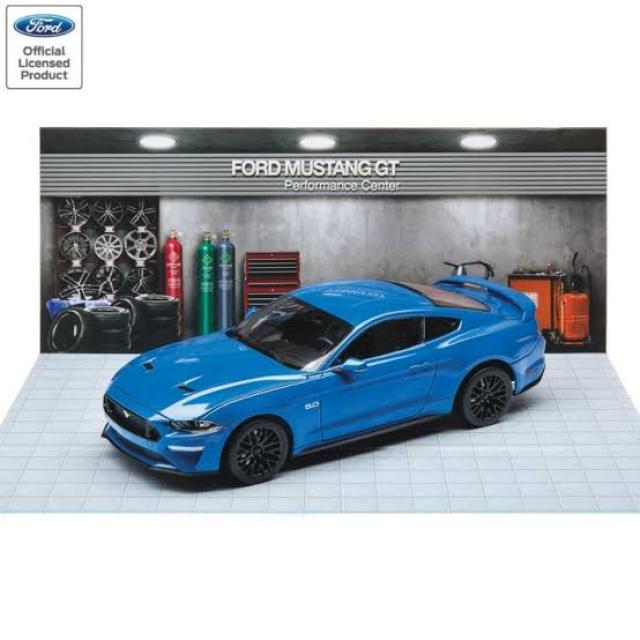Car: (103, 276, 544, 484)
